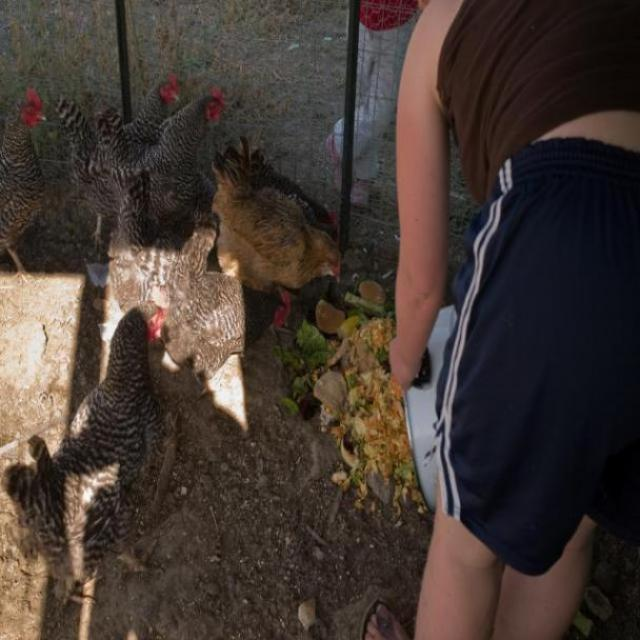Chicken: (199, 141, 343, 325), (0, 82, 48, 283), (124, 300, 168, 346), (260, 281, 293, 335), (196, 84, 231, 127), (155, 69, 183, 106)
